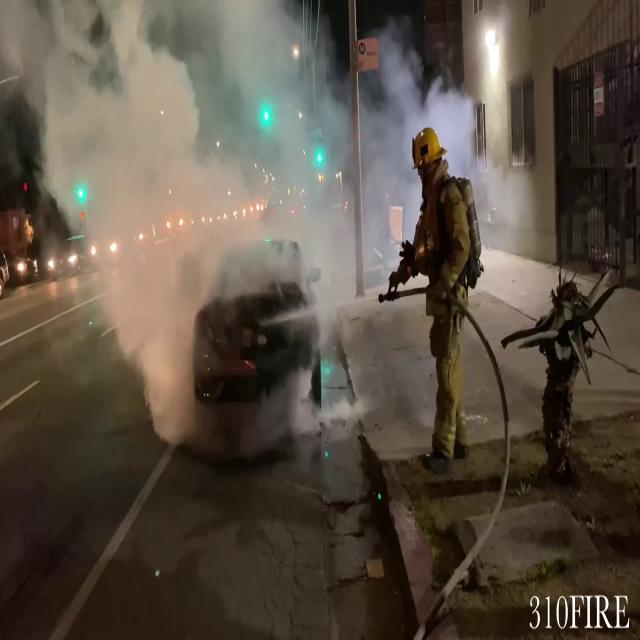Smoke: (6, 1, 424, 435)
